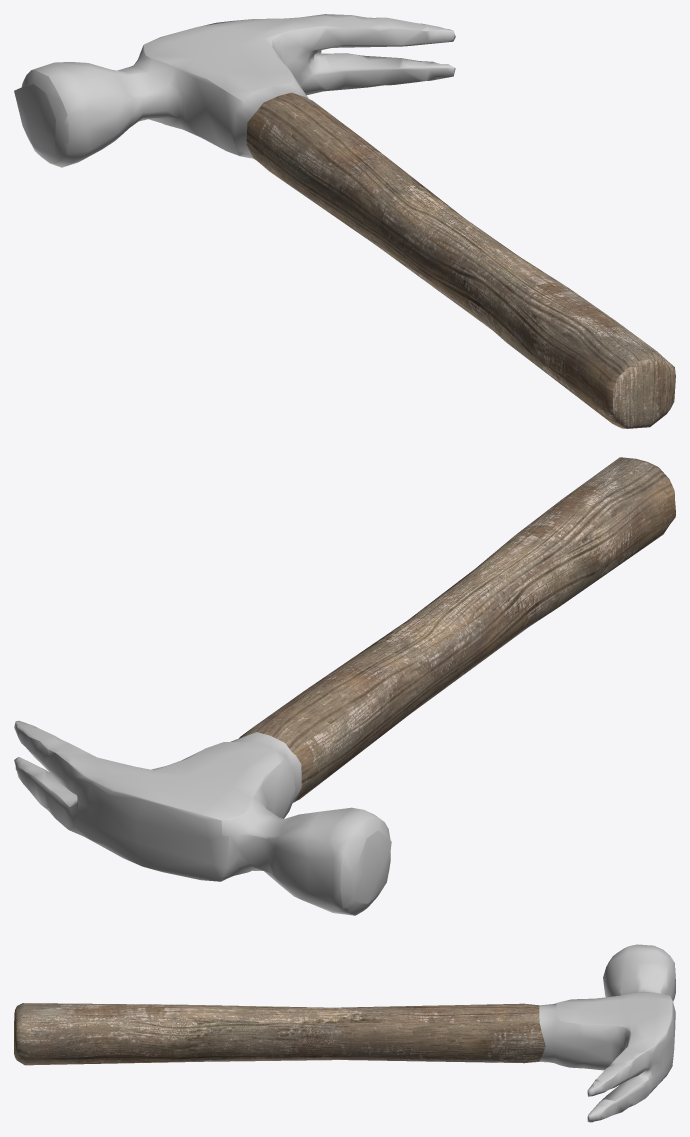
Rendered from SM_Hammer.fbx.
3 views of the same model, one above another, from view 1: azimuth 30°, elevation 25°; view 2: azimuth 150°, elevation 25°; view 3: azimuth 270°, elevation 25° (orthographic). The views are drawn at different scales.
Parts seen in each view (by area): view 1: SM_Hammer_LOD0; view 2: SM_Hammer_LOD0; view 3: SM_Hammer_LOD0.
Boxes of the visible parts, left/top/right/bottom form: SM_Hammer_LOD0: left=14, top=14, right=675, bottom=428; SM_Hammer_LOD0: left=14, top=457, right=675, bottom=915; SM_Hammer_LOD0: left=14, top=944, right=675, bottom=1122.
Bounding box in the file's own units: 19.13 × 39.42 × 4.31.
